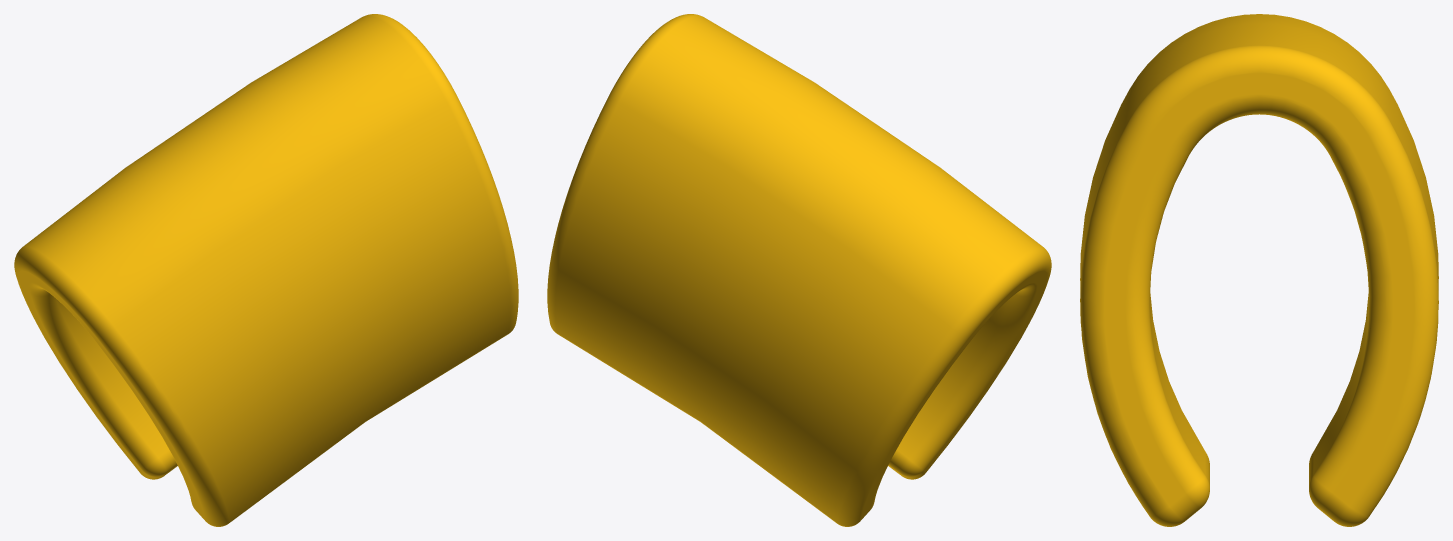
File: _60355K291_Steel_Ball_Bearing_19.gltf
3 renders of one model, left to right at view 1: azimuth 30°, elevation 25°; view 2: azimuth 150°, elevation 25°; view 3: azimuth 270°, elevation 25°, orthographic. The views are drawn at different scales.
Visible parts, largest first — view 1: mesh56659, mesh56656, mesh56657, mesh56662, mesh56663, mesh56653, mesh56658, mesh56665, mesh56646; view 2: mesh56647, mesh56656, mesh56652, mesh56671, mesh56677, mesh56653, mesh56643, mesh56665, mesh56646; view 3: mesh56668, mesh56658, mesh56643, mesh56655, mesh56674, mesh56656, mesh56646, mesh56667, mesh56647, mesh56663, mesh56677, mesh56659 (+4 smaller).
Part boxes in pixels (box(x1,y1,x2,y2)): mesh56659: box(115, 103, 510, 521); mesh56656: box(23, 16, 446, 327); mesh56657: box(98, 328, 229, 525); mesh56662: box(29, 292, 157, 470); mesh56663: box(56, 299, 169, 457); mesh56653: box(14, 246, 114, 338); mesh56658: box(447, 96, 518, 332); mesh56665: box(18, 271, 204, 519); mesh56646: box(363, 14, 456, 102); mesh56647: box(555, 103, 950, 521); mesh56656: box(619, 16, 1042, 327); mesh56652: box(836, 328, 967, 525); mesh56671: box(907, 292, 1036, 470); mesh56677: box(896, 299, 1009, 457); mesh56653: box(951, 246, 1051, 338); mesh56643: box(547, 96, 618, 332); mesh56665: box(861, 271, 1047, 519); mesh56646: box(609, 14, 701, 102); mesh56668: box(1104, 73, 1414, 506); mesh56658: box(1080, 120, 1169, 516); mesh56643: box(1349, 120, 1438, 516); mesh56655: box(1313, 146, 1393, 492); mesh56674: box(1125, 146, 1205, 492); mesh56656: box(1129, 14, 1389, 118); mesh56646: box(1129, 45, 1389, 135); mesh56667: box(1169, 94, 1349, 154); mesh56647: box(1389, 89, 1438, 302); mesh56663: box(1313, 292, 1369, 475); mesh56677: box(1149, 294, 1205, 475); mesh56659: box(1080, 89, 1129, 299).
Bounding box in the file's own units: 0.00292 × 0.0027 × 0.00147.
